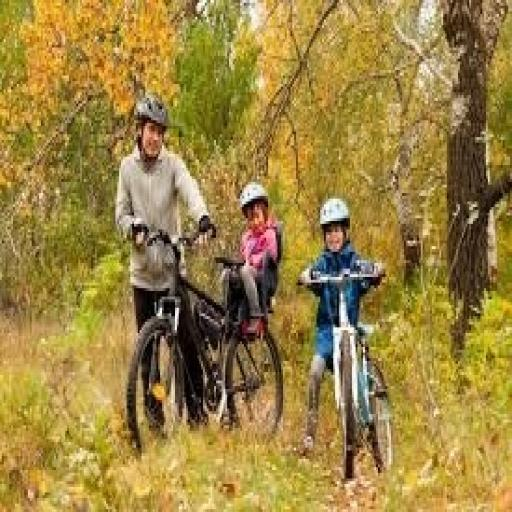cycling: (114, 92, 220, 434), (296, 193, 391, 473), (214, 179, 285, 434)
